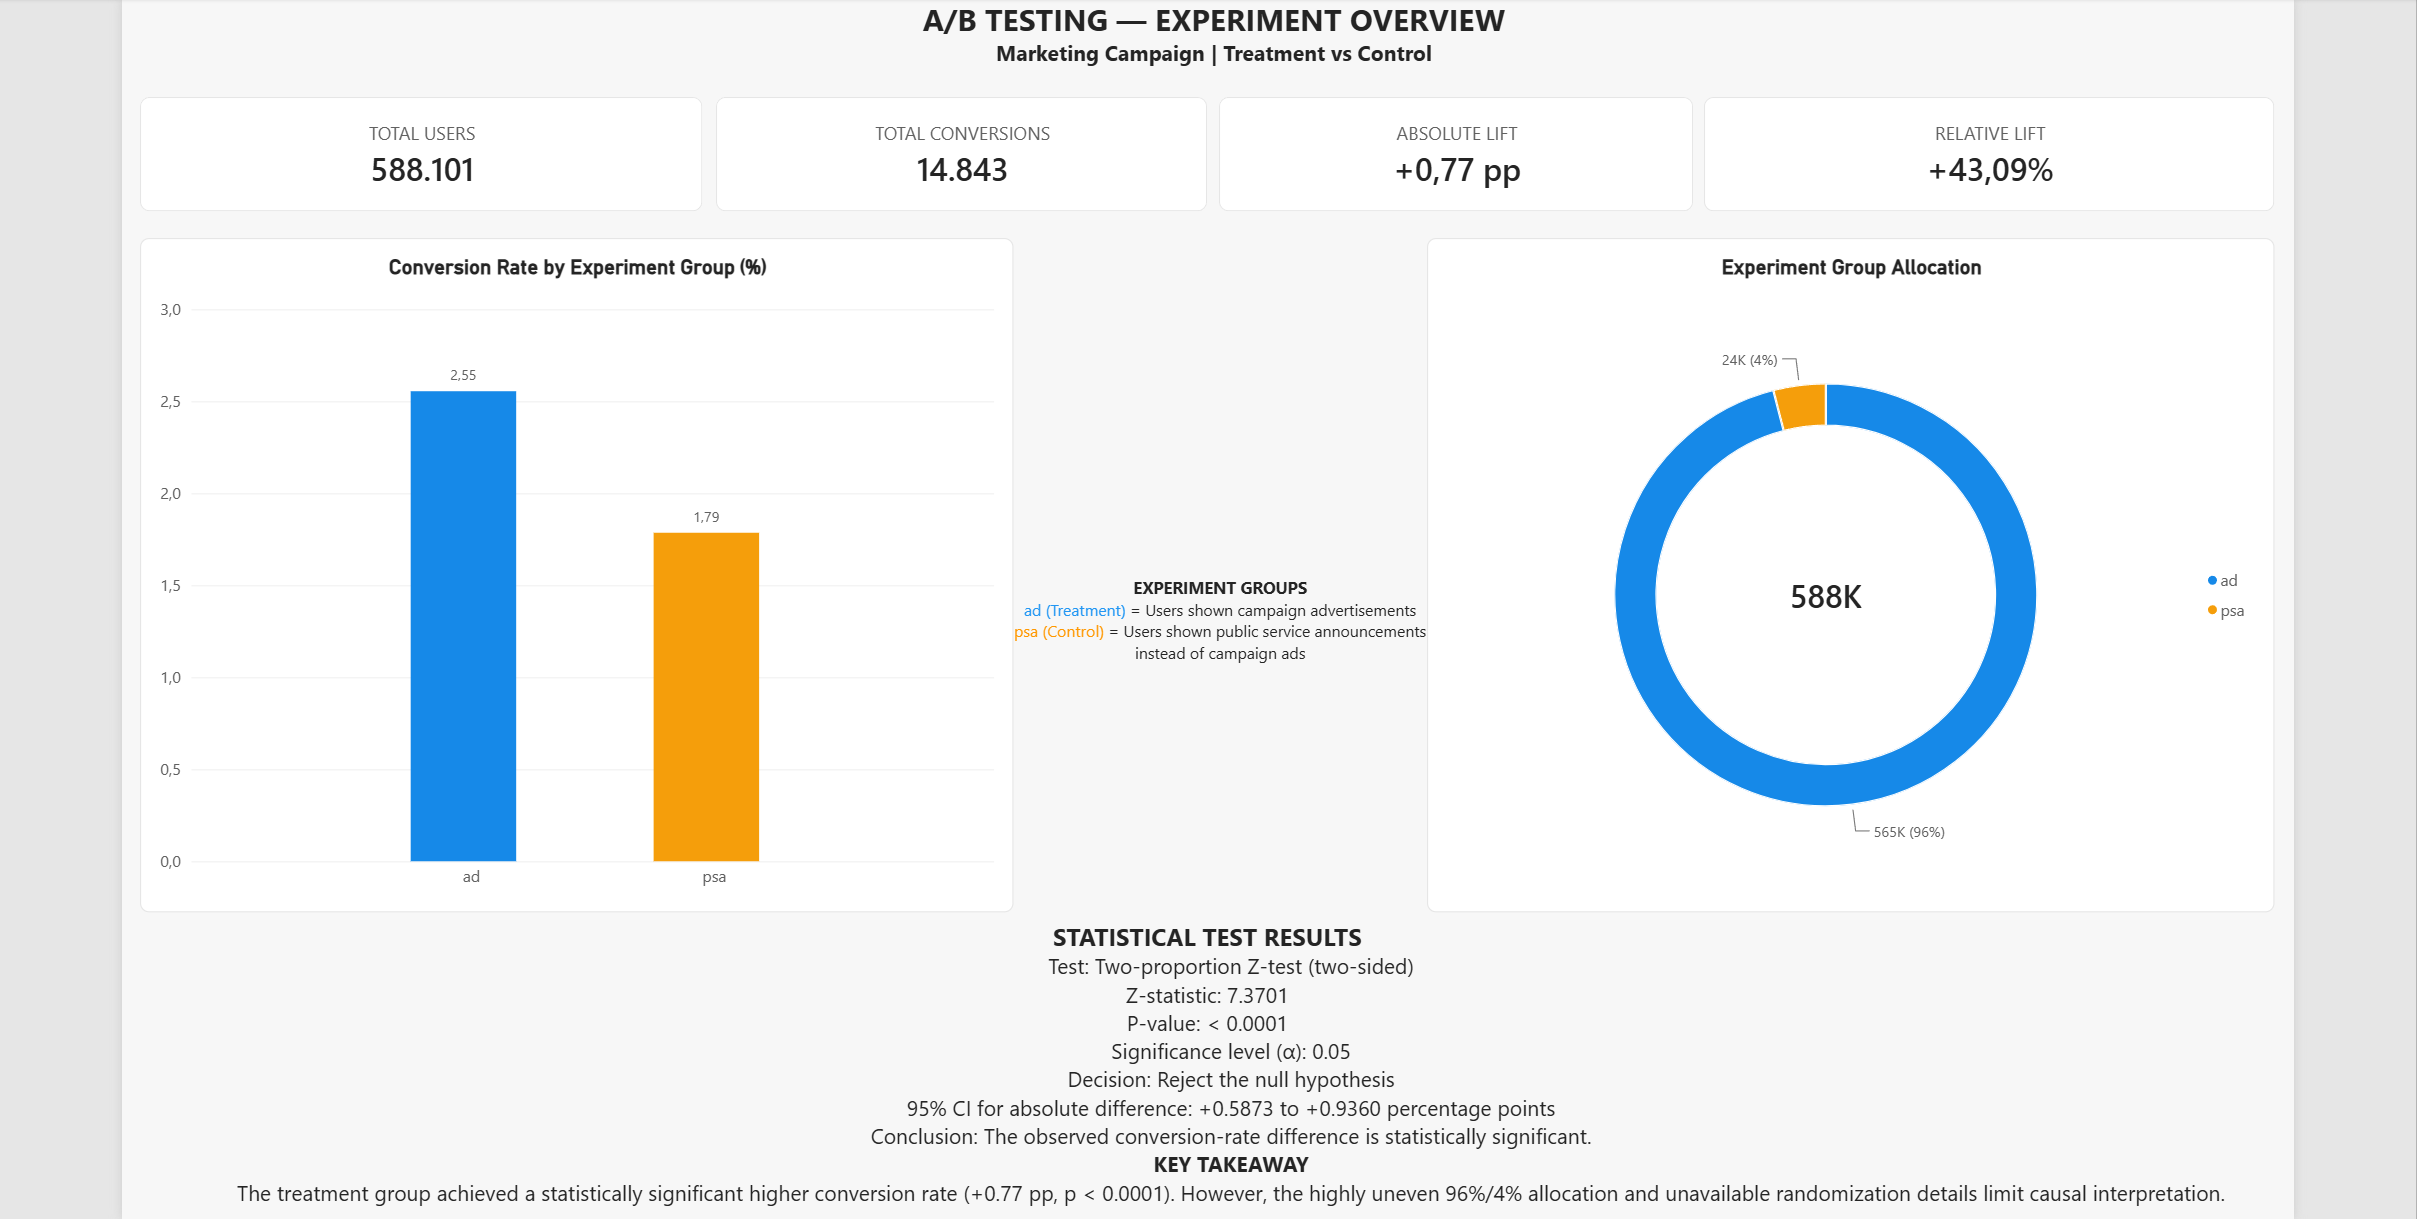

The dashboard page shown, as its layout file describes it:
{"tool":"powerbi","page":{"name":"01 | Experiment Overview","canvas":[1920,1080],"ordinal":0},"visuals":[{"type":"cardVisual","fields":{"Data":["Sum(ab_test_summary.total_users)"]},"box":[15.7,87.4,497.7,101.1],"z":0},{"type":"cardVisual","fields":{"Data":["Sum(ab_test_summary.conversions)"]},"box":[525.2,87.4,434.8,101.1],"z":1000},{"type":"cardVisual","fields":{"Data":["ab_test_summary.Absolute Lift (pp)"]},"box":[969.8,87.4,419.1,101.1],"z":2000},{"type":"cardVisual","fields":{"Data":["ab_test_summary.Relative Lift (%)"]},"box":[1397.8,87.4,504.5,101.1],"z":3000},{"type":"clusteredColumnChart","title":"Conversion Rate by Experiment Group (%)","fields":{"Category":["ab_test_summary.test_group"],"Y":["Sum(ab_test_summary.conversion_rate_pct)"]},"box":[15.7,212,771.5,595.8],"z":4000},{"type":"donutChart","title":"Experiment Group Allocation","fields":{"Category":["ab_test_summary.test_group"],"Y":["Sum(ab_test_summary.total_users)"]},"box":[1153.4,212,749,595.8],"z":5000},{"type":"textbox","box":[15.7,814.7,1886.6,266],"z":6000},{"type":"textbox","box":[15.7,0,1898.4,75.6],"z":7000},{"type":"textbox","box":[787.2,510.4,366.1,86.4],"z":8000}]}

Visuals, with their boxes on the page's 1920x1080 design canvas (x1, y1, x2, y2). These are canvas units, not pixel positions in the 2417x1219 screenshot, which may show the page scaled, cropped or inside an application window:
cardVisual - Sum(ab_test_summary.total_users): Rect(16, 87, 513, 188)
cardVisual - Sum(ab_test_summary.conversions): Rect(525, 87, 960, 188)
cardVisual - ab_test_summary.Absolute Lift (pp): Rect(970, 87, 1389, 188)
cardVisual - ab_test_summary.Relative Lift (%): Rect(1398, 87, 1902, 188)
"Conversion Rate by Experiment Group (%)" clusteredColumnChart: Rect(16, 212, 787, 808)
"Experiment Group Allocation" donutChart: Rect(1153, 212, 1902, 808)
textbox: Rect(16, 815, 1902, 1081)
textbox: Rect(16, 0, 1914, 76)
textbox: Rect(787, 510, 1153, 597)
